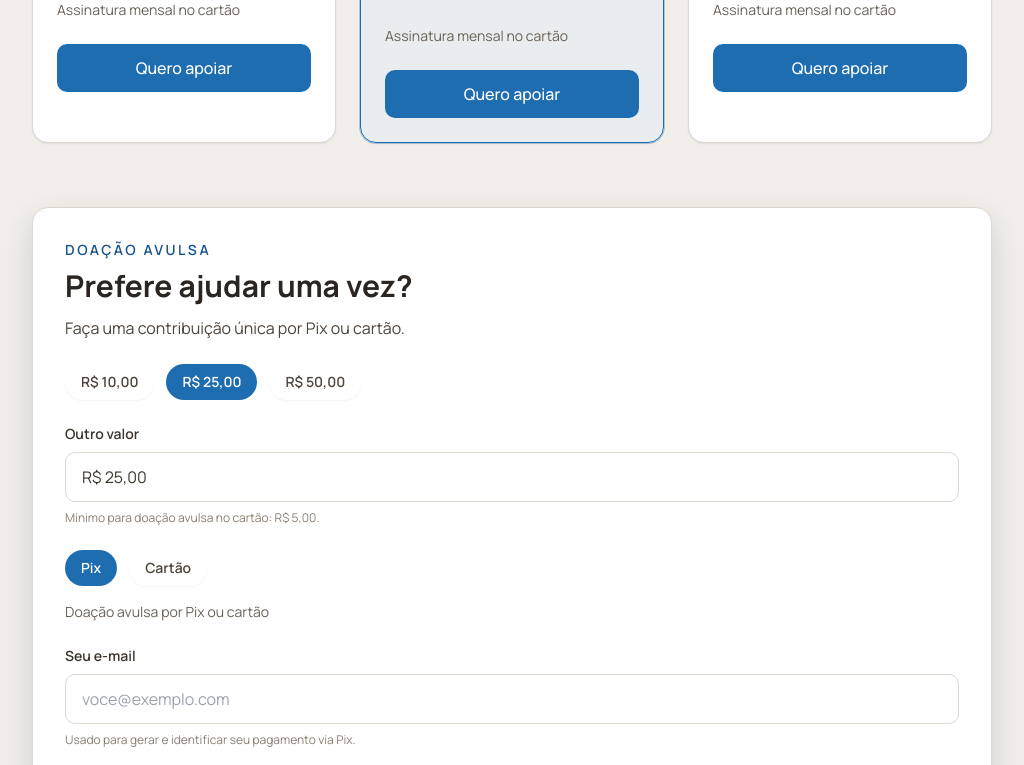
SupportPageClient › fills the amount input when a preset suggestion is selected
This screenshot has width=1024, height=765.
(page scrolled)
Click the button "R$ 50,00" at (315,382), box [269, 364, 361, 400]
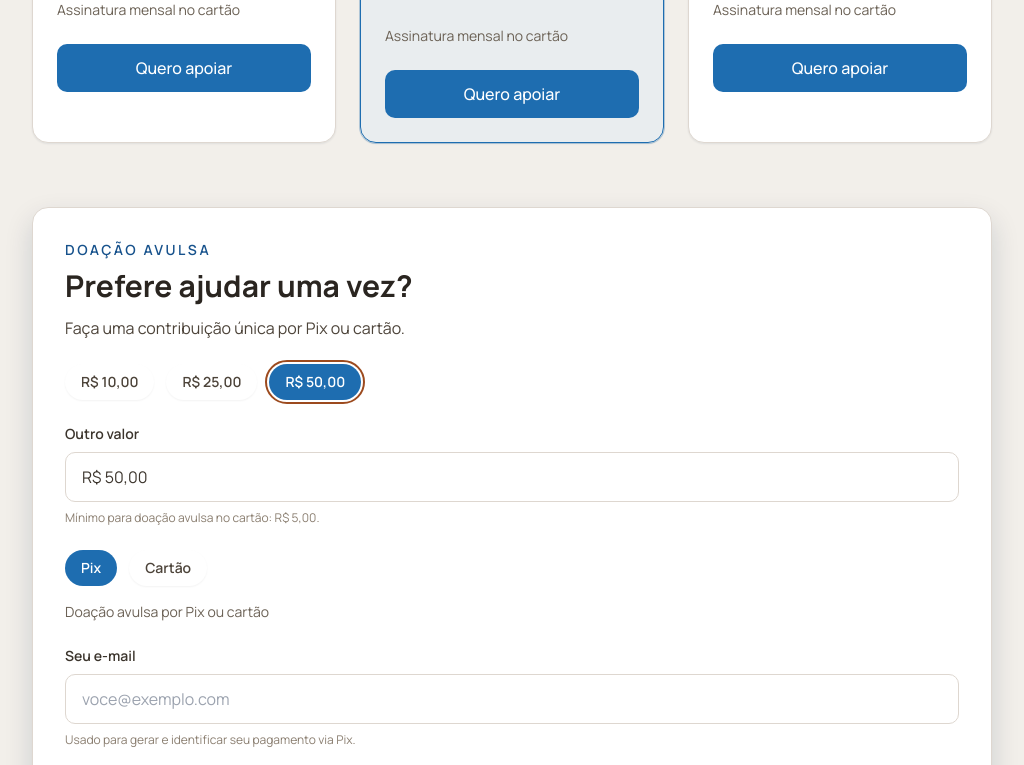
Check: the field labelled "Outro valor" holds "R$ 50,00", box [65, 452, 959, 502]
